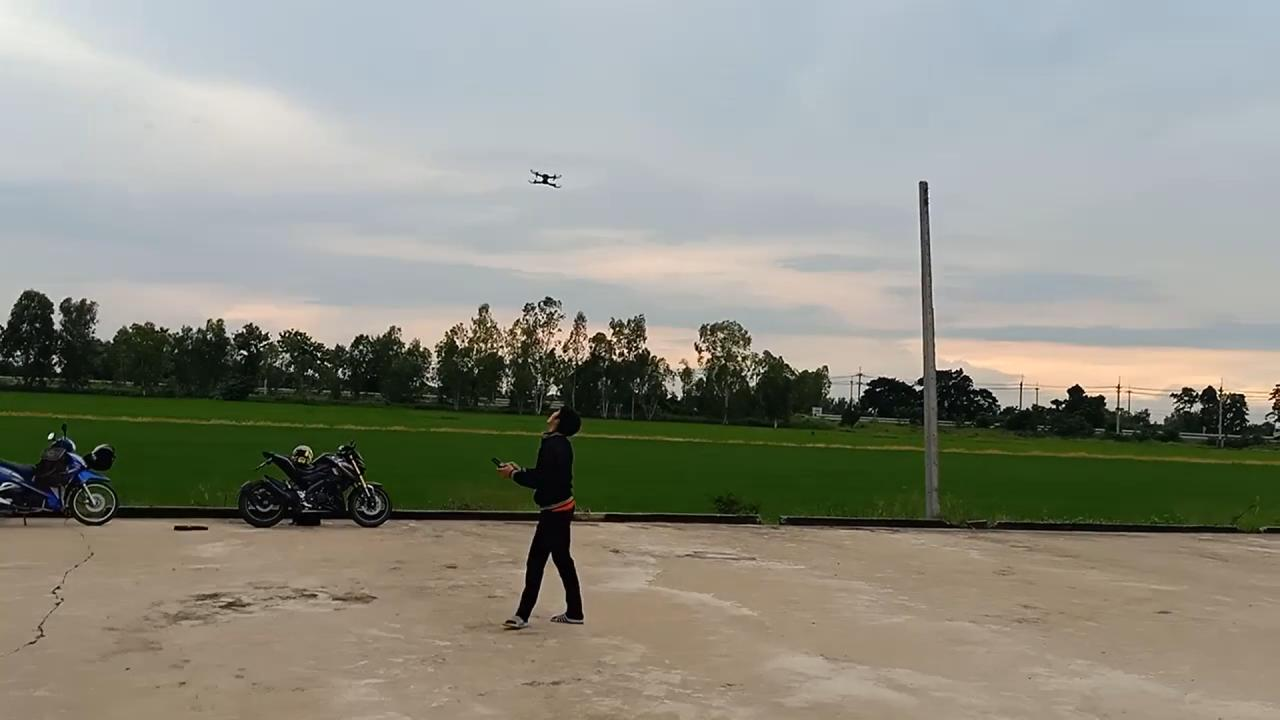Drone: (521, 160, 570, 200)
